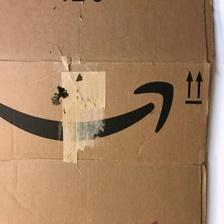Kertas: (0, 0, 217, 224)
